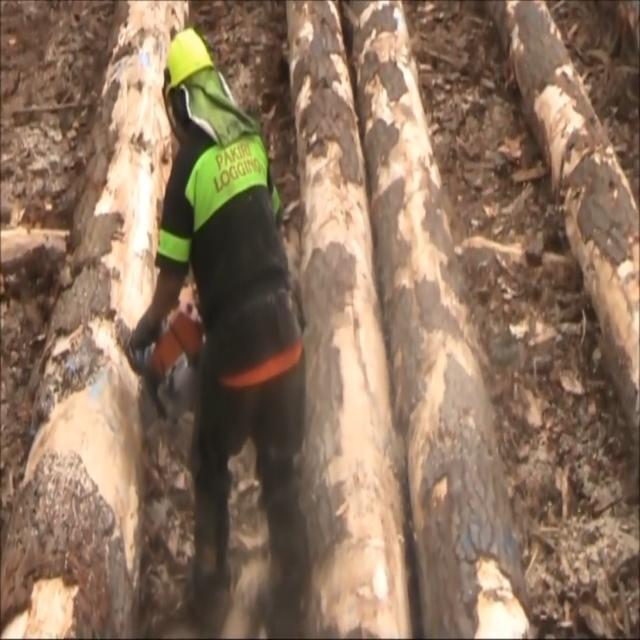Chainsaw: (91, 264, 226, 478)
